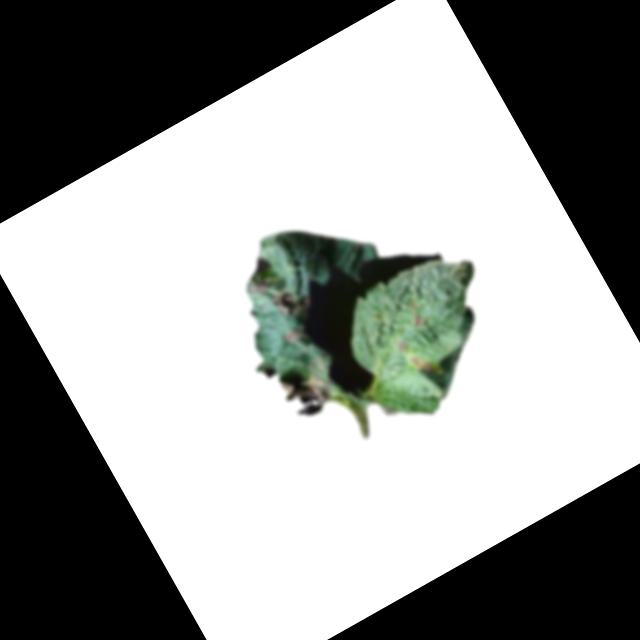Early_blight: (273, 355, 341, 424), (270, 281, 313, 322), (409, 348, 438, 380), (279, 322, 306, 346), (247, 273, 273, 297), (395, 336, 411, 355), (413, 313, 425, 325)
